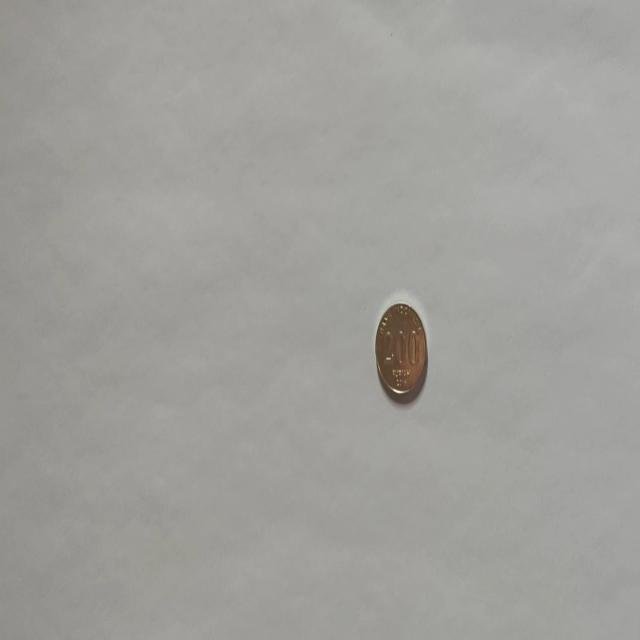dua ratus rupiah: (374, 300, 427, 398)
